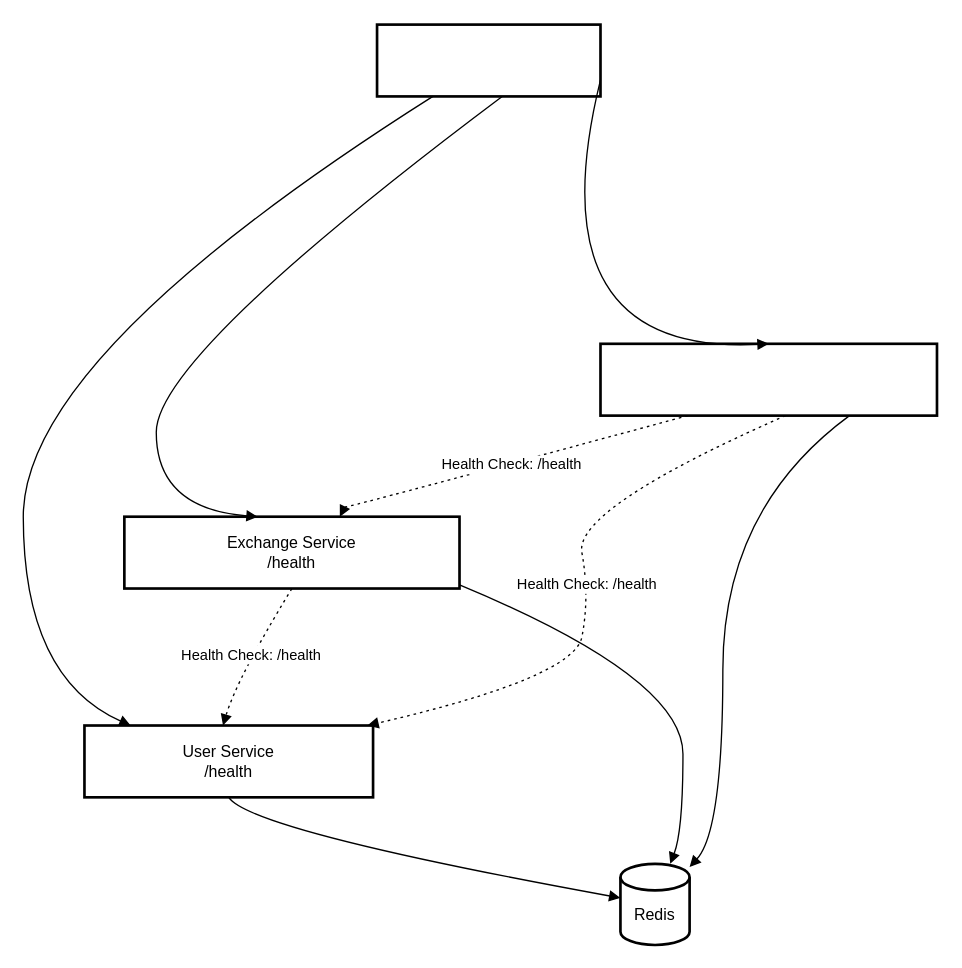
Image size: 962x968. Some labels were removed from this diagram. Here are the shapes that lost their labels. From the top down, the centre of each, then its label:
At point 488,60: "Client/Browser".
At point 768,379: "Feedback Service /health".
